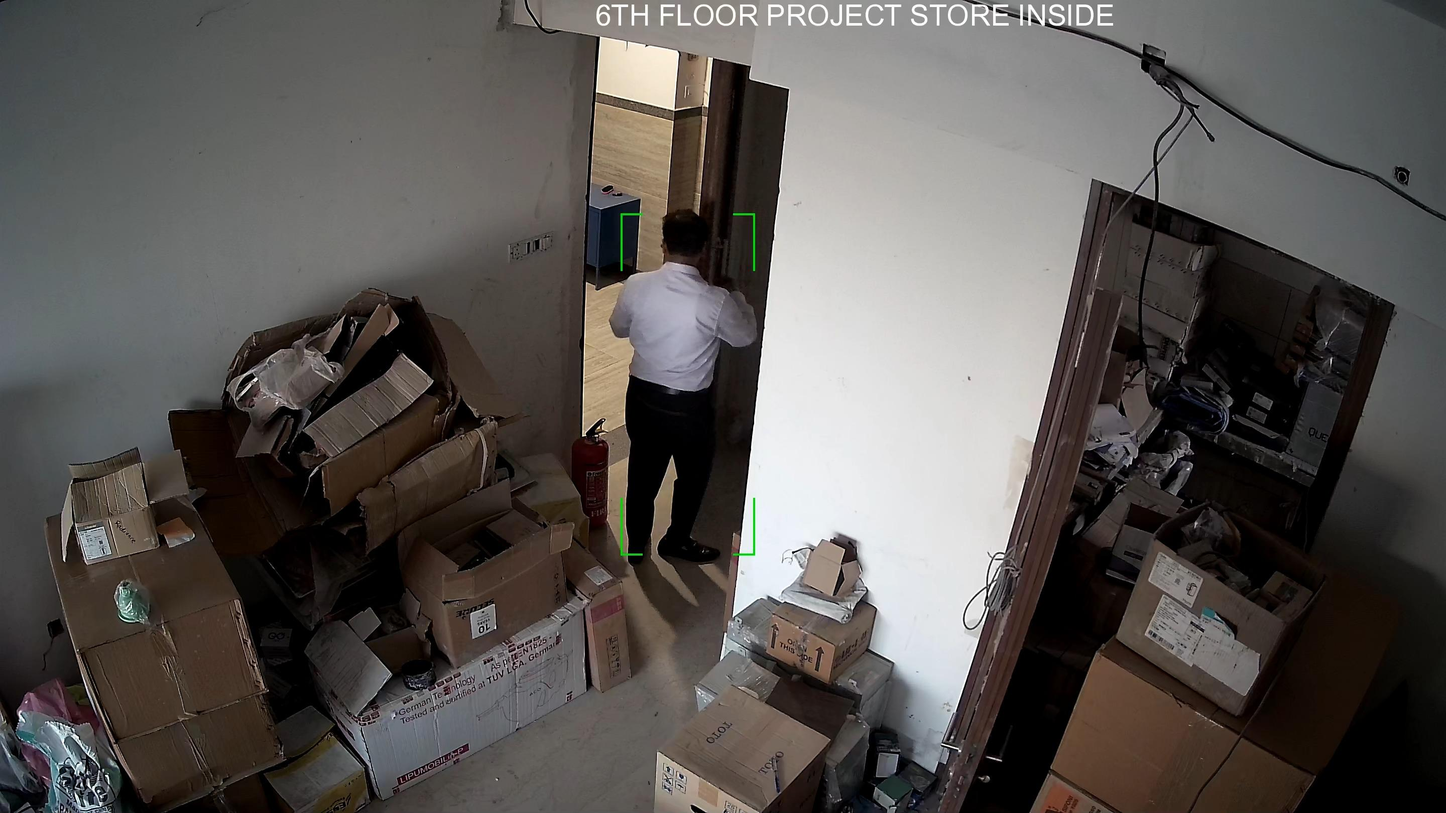Door-Open: (562, 45, 770, 562)
